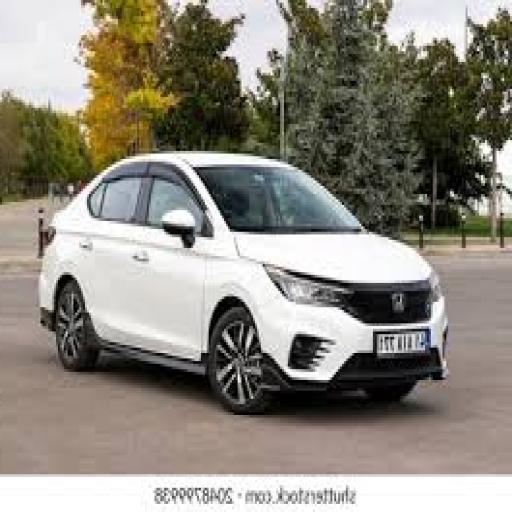License: (366, 326, 433, 360)
